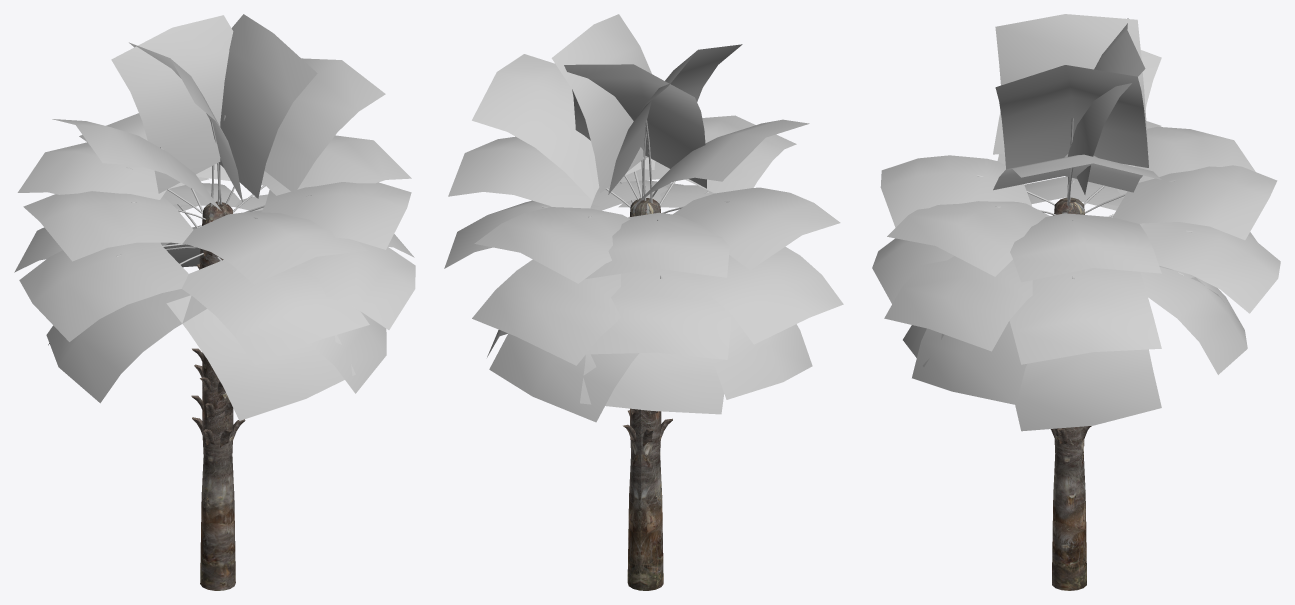
File: palm5 version2.dae
3 views of the same model, side by side, from view 1: azimuth 30°, elevation 25°; view 2: azimuth 150°, elevation 25°; view 3: azimuth 270°, elevation 25° (orthographic).
Parts seen in each view (by area): view 1: palm5_version_2; view 2: palm5_version_2; view 3: palm5_version_2.
Part boxes in pixels (x1,y1,x2,y2): palm5_version_2: [14, 14, 415, 590]; palm5_version_2: [444, 14, 843, 590]; palm5_version_2: [872, 14, 1280, 590].
Size of the model in its own units: 245 by 362 by 246.
